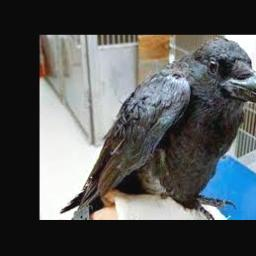Crow: (60, 38, 256, 218)
